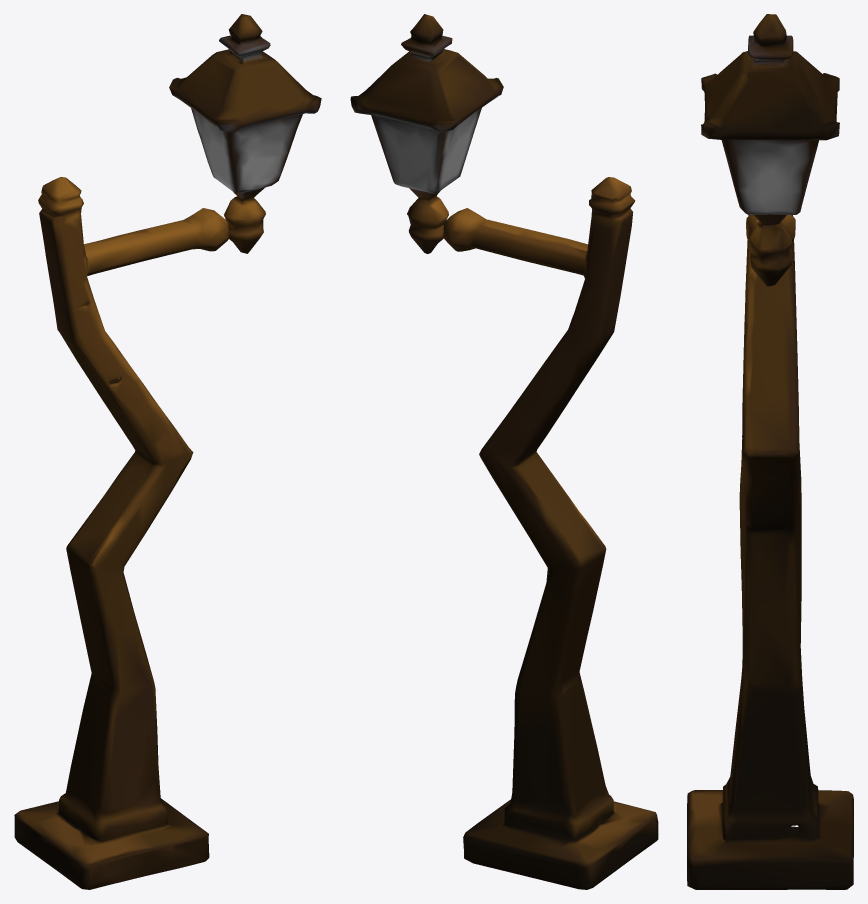
The model's file is gen3d-crooked-lamppost-lod0.glb.
3 views of the same model, side by side, from view 1: azimuth 30°, elevation 25°; view 2: azimuth 150°, elevation 25°; view 3: azimuth 270°, elevation 25° (orthographic). The views are drawn at different scales.
Visible parts, largest first — view 1: part_0; view 2: part_0; view 3: part_0.
Part boxes in pixels (x1=…): part_0: x1=14, y1=14, x2=321, y2=889; part_0: x1=350, y1=14, x2=658, y2=889; part_0: x1=687, y1=14, x2=853, y2=889.
Size of the model in its own units: 0.331 by 0.998 by 0.1651.
